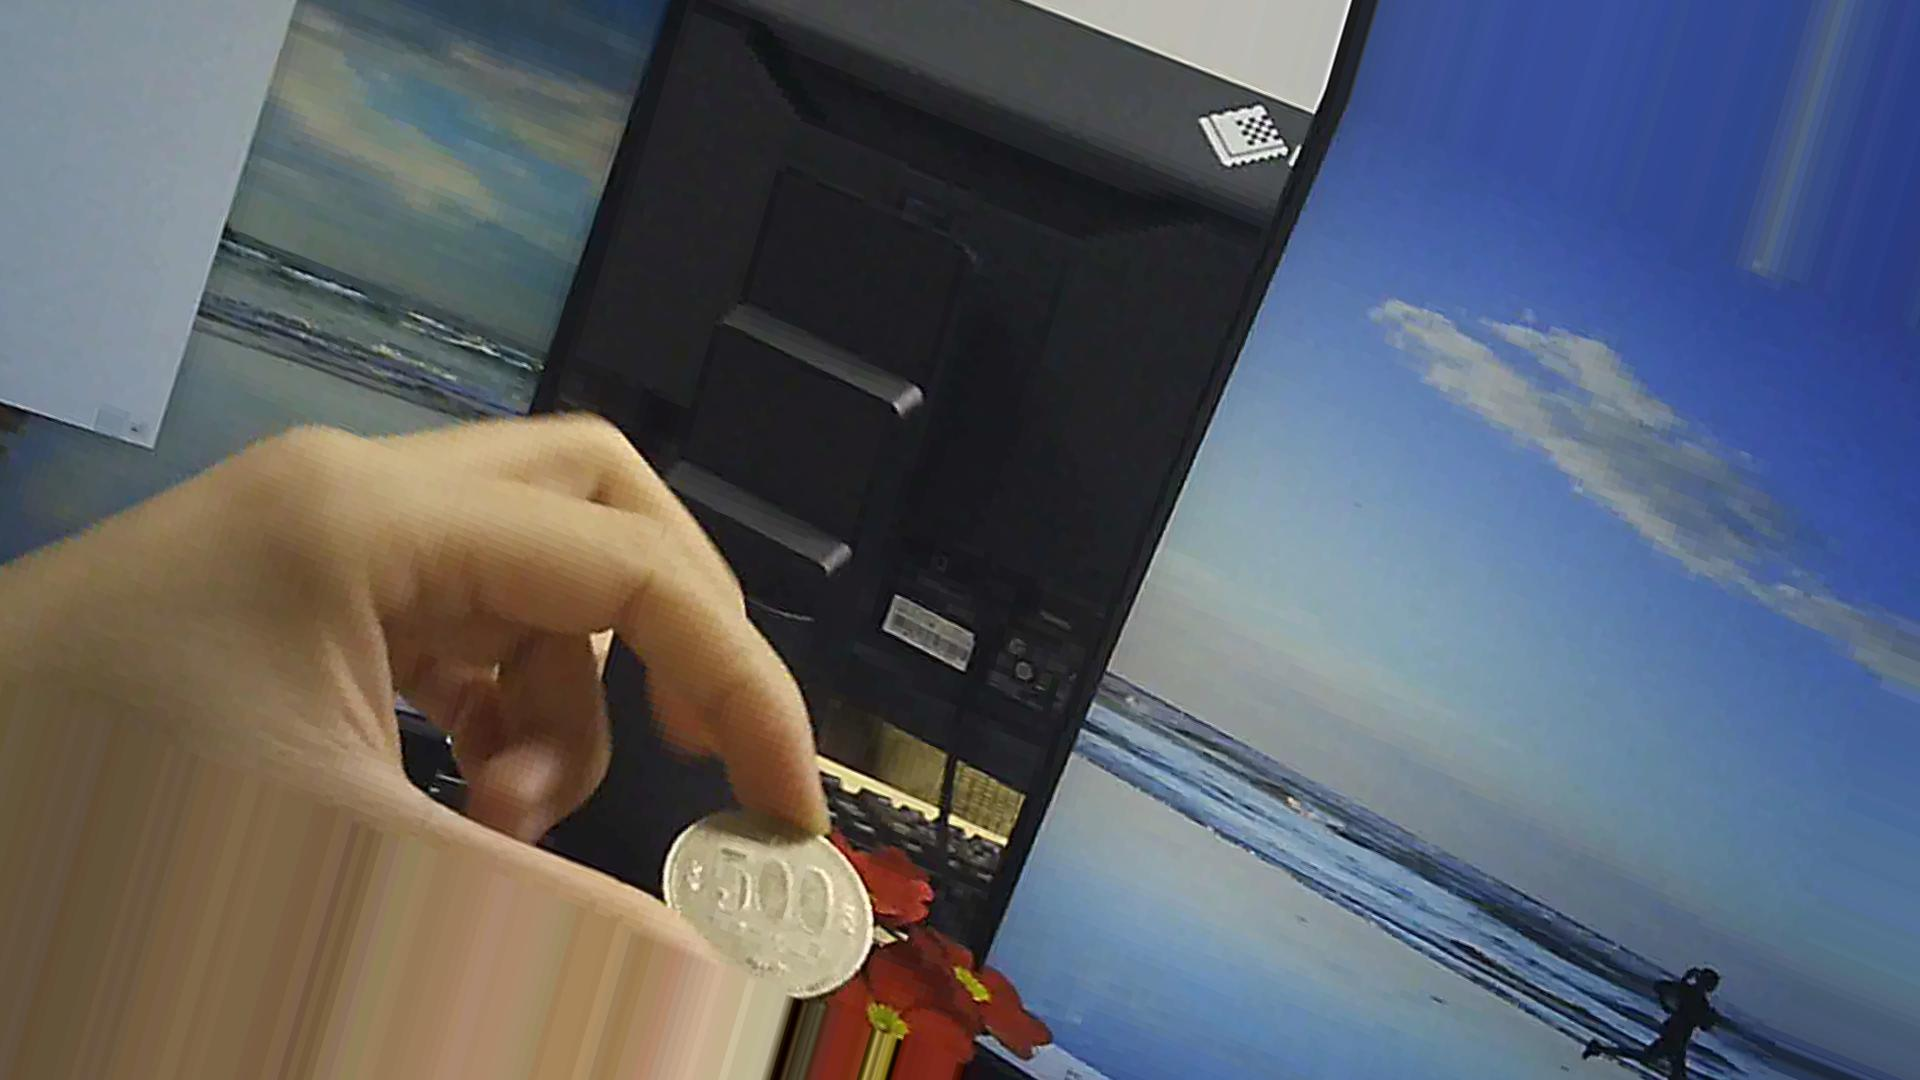500 Yen: (642, 796, 881, 1006)
